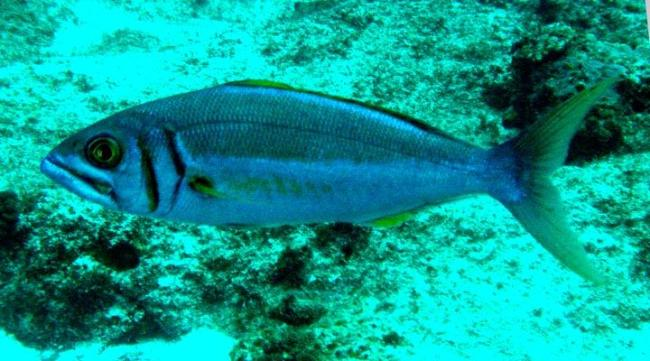fish: (40, 80, 607, 287)
